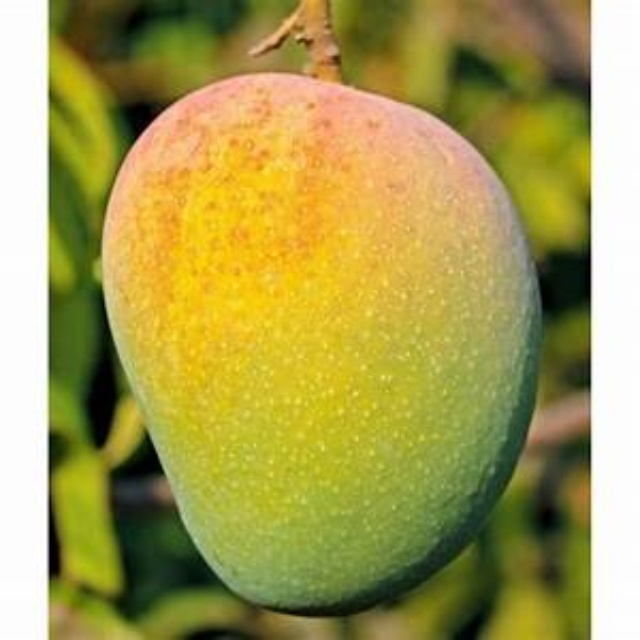mango: (104, 73, 538, 618)
